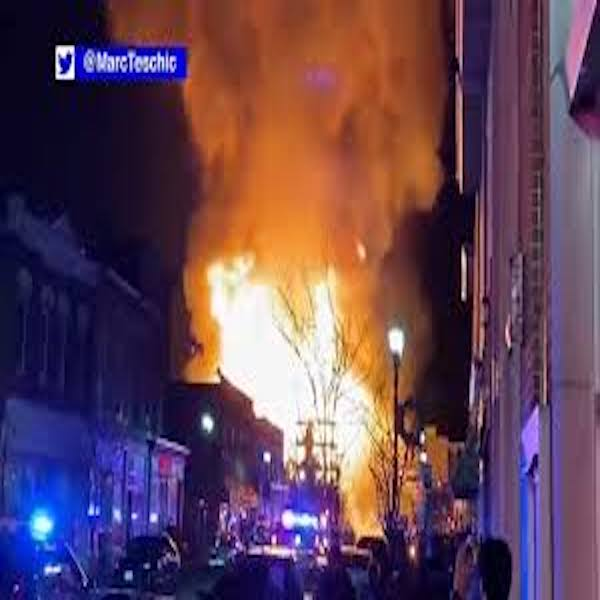fire: (193, 61, 384, 436)
